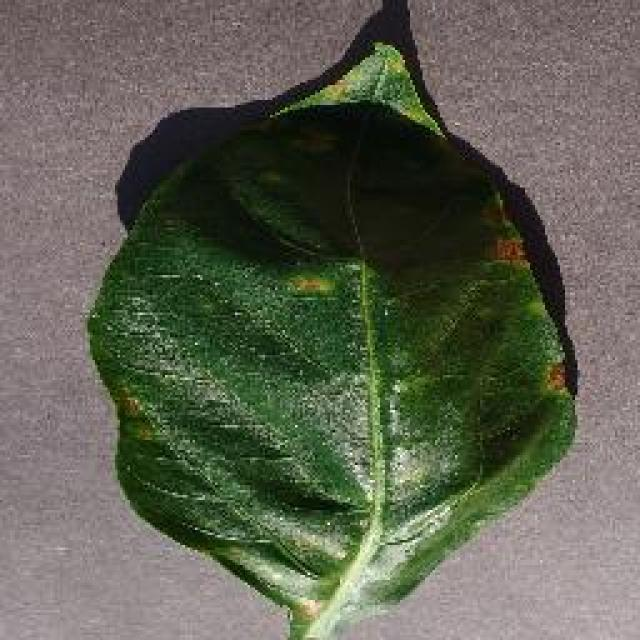Chilli_Bacterial_Spot: (82, 35, 582, 637), (298, 362, 468, 512), (265, 38, 445, 140), (475, 188, 530, 268), (108, 385, 158, 443), (282, 270, 338, 300), (490, 233, 528, 265), (542, 357, 570, 395), (110, 390, 142, 422)
